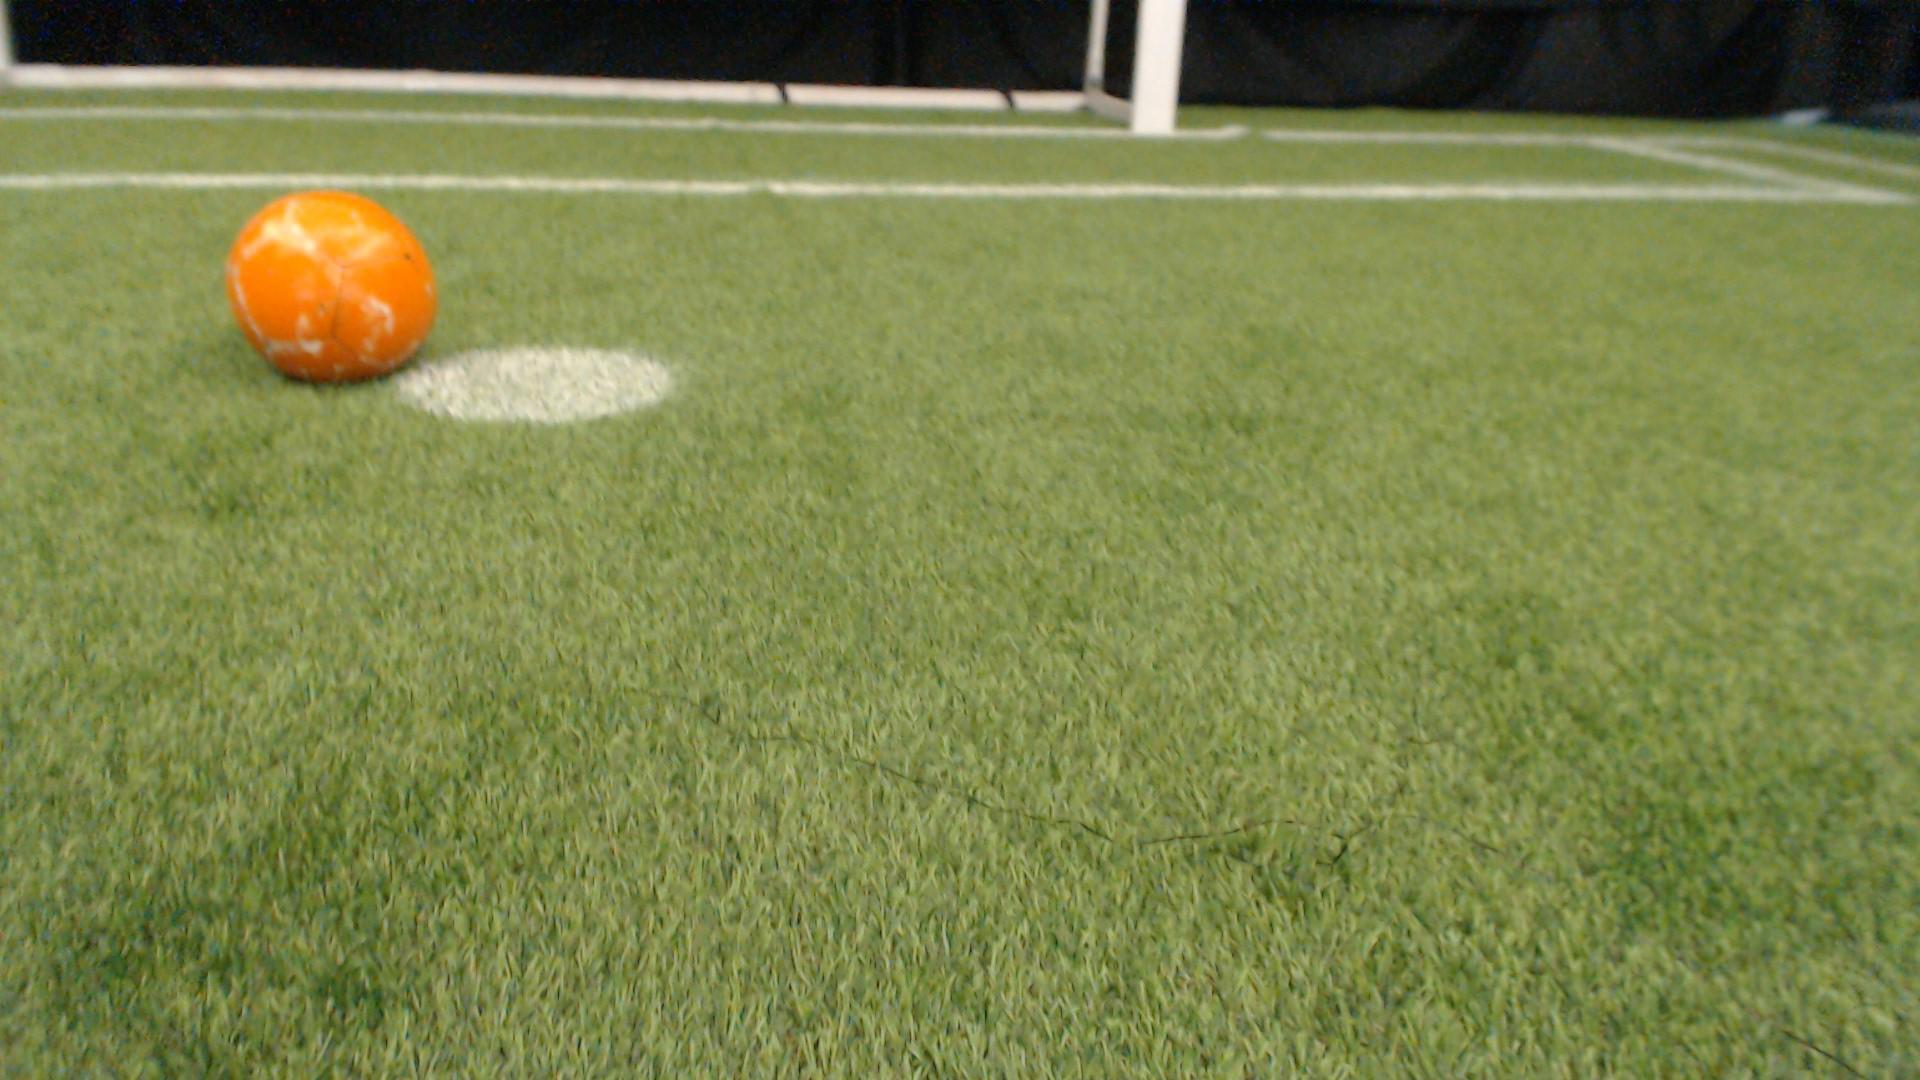bola: (208, 173, 465, 400)
